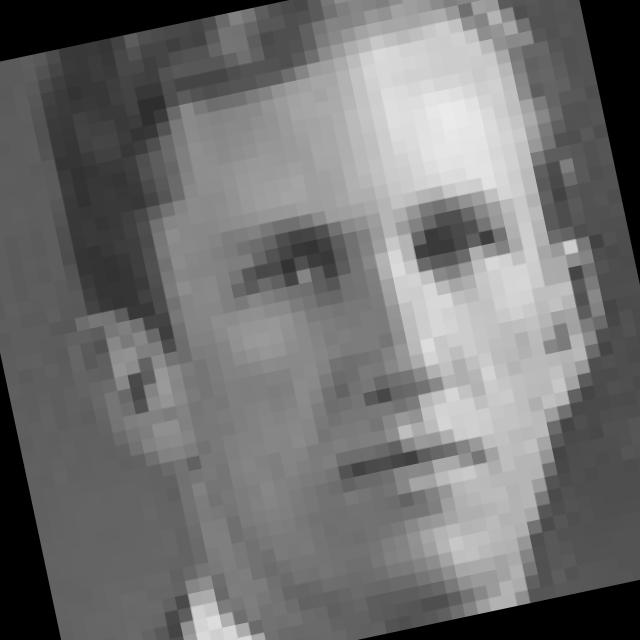neutral: (206, 152, 579, 551)
